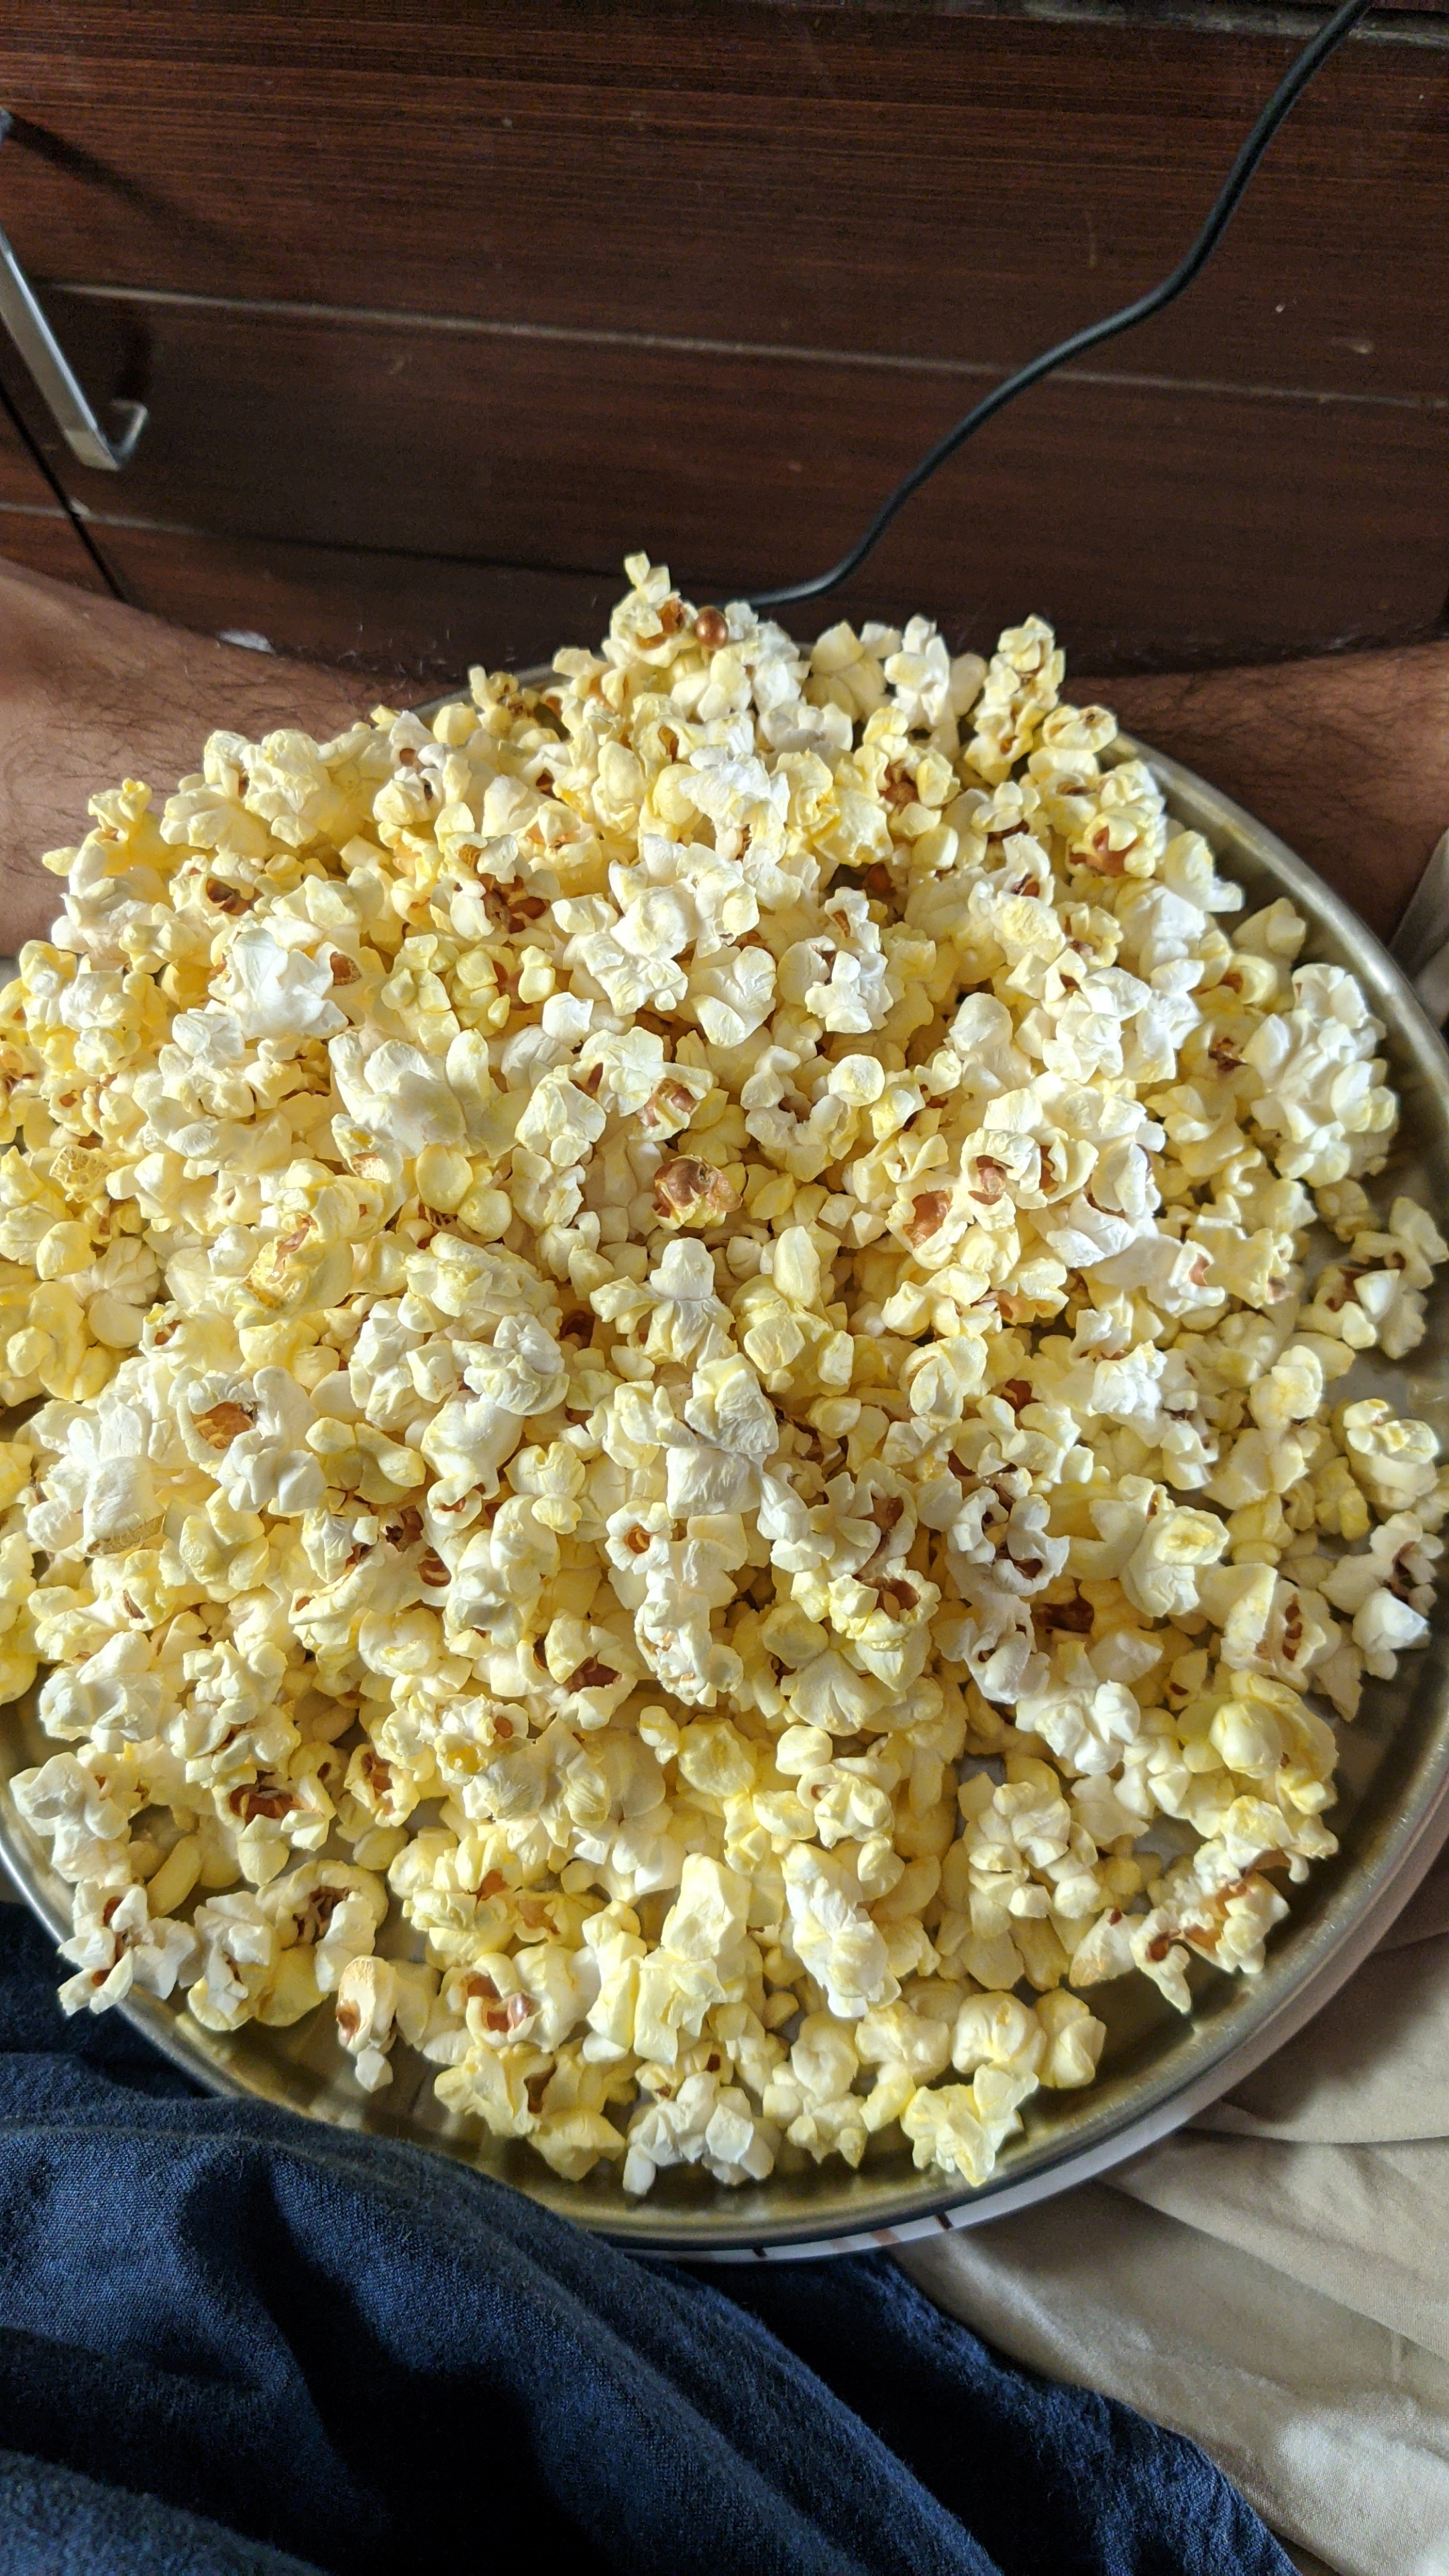food: (0, 541, 1448, 2212)
